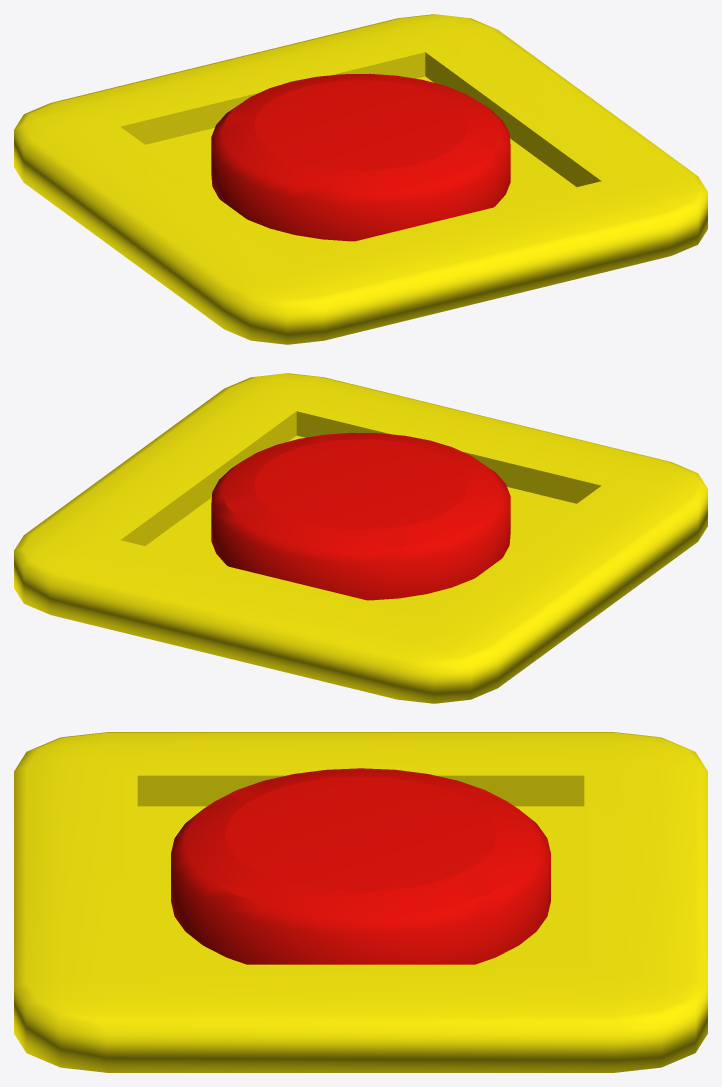
Rendered from botao.fbx.
3 renders of one model, top to bottom at view 1: azimuth 30°, elevation 25°; view 2: azimuth 150°, elevation 25°; view 3: azimuth 270°, elevation 25°, orthographic. The views are drawn at different scales.
Visible parts, largest first — view 1: Cube, Cylinder; view 2: Cube, Cylinder; view 3: Cube, Cylinder.
Part boxes in pixels (<box>): Cube: <box>14,14,707,344</box>; Cylinder: <box>211,73,510,241</box>; Cube: <box>14,373,707,703</box>; Cylinder: <box>211,432,510,600</box>; Cube: <box>14,732,707,1072</box>; Cylinder: <box>171,768,550,964</box>.
Size of the model in its own units: 636 by 105 by 636.
